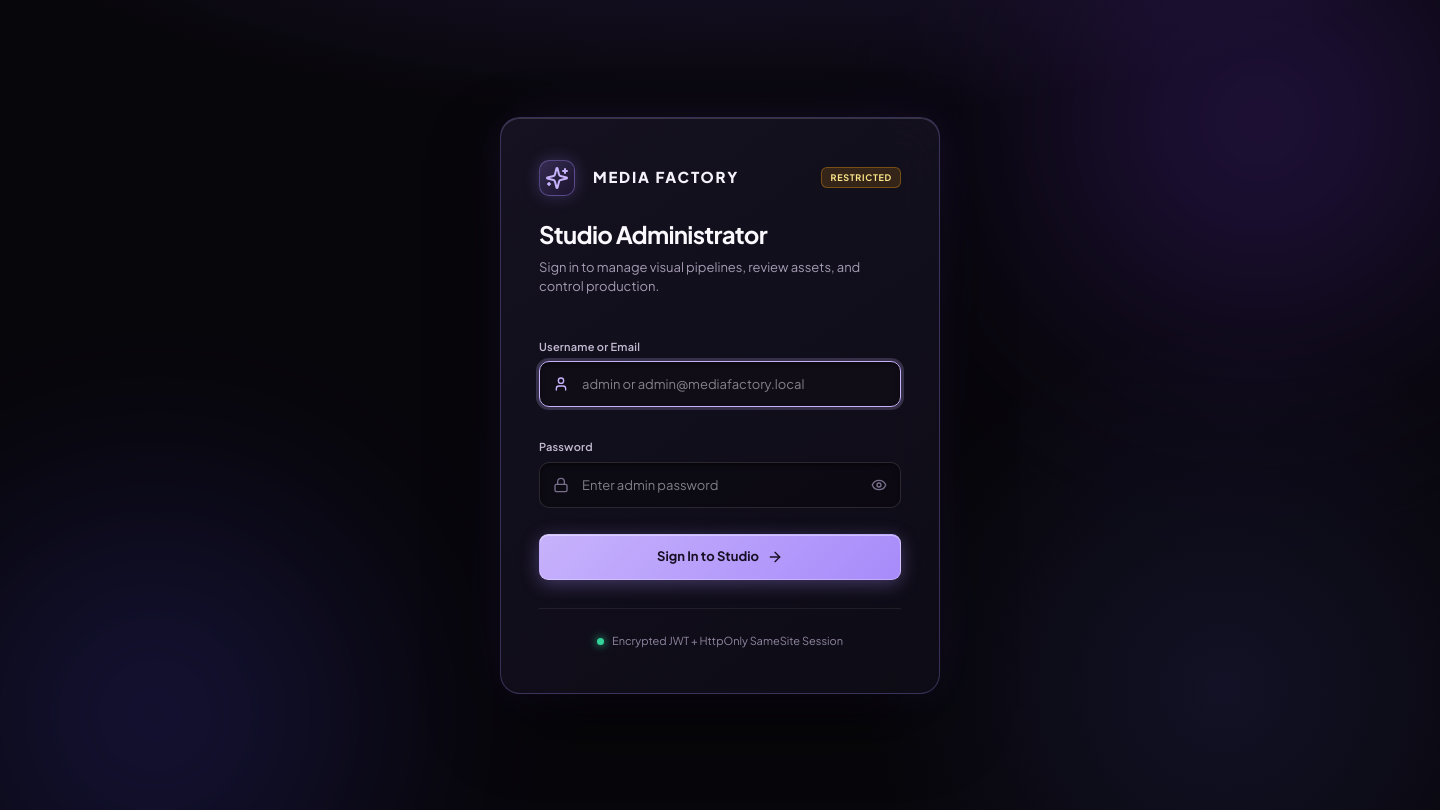
Test: Login Component › displays error message when login fails
Type "admin" into the field labelled "Username or Email" at (720, 384), box [539,361,901,407]
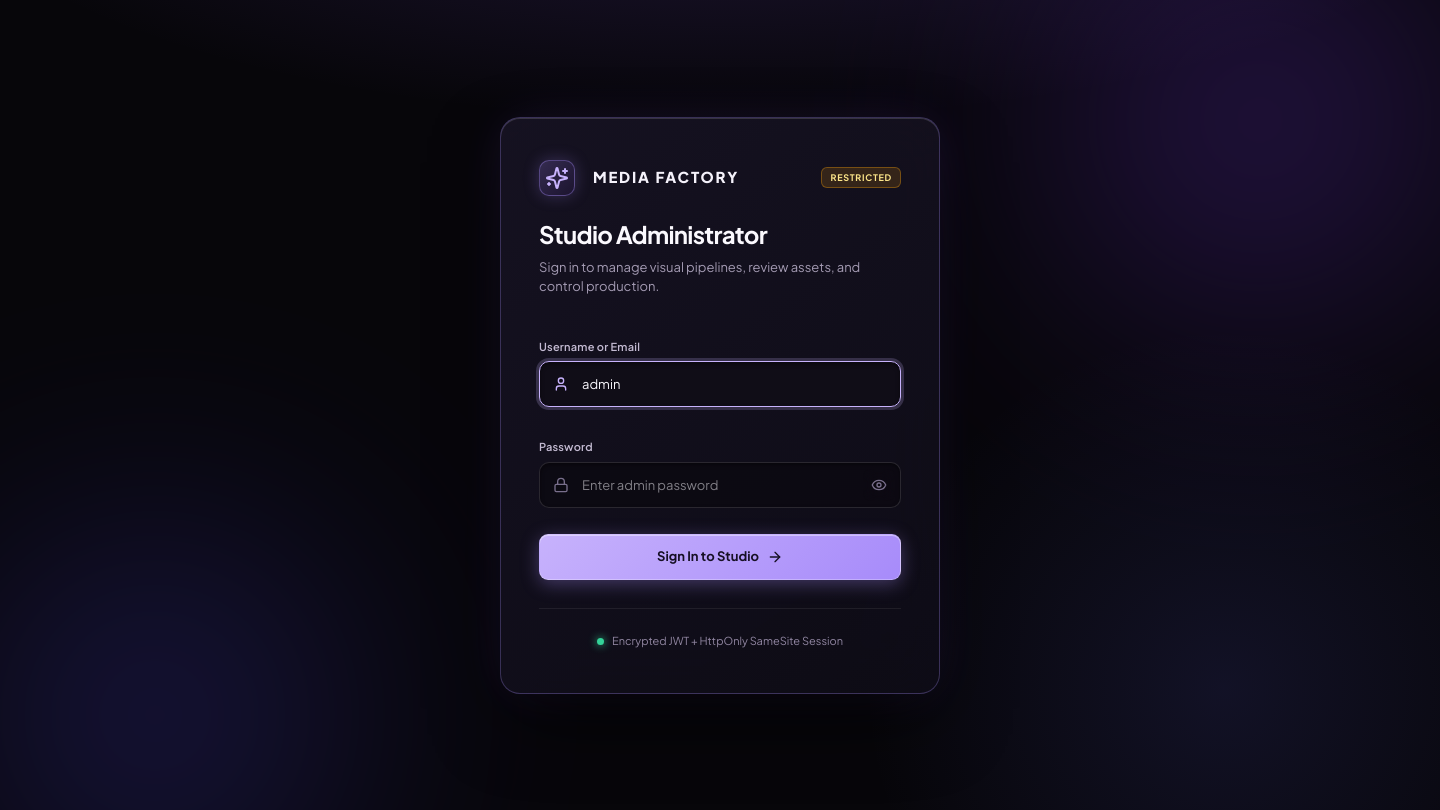
Type "wrong" into the password field labelled "Password" at (720, 484), box [539,462,901,508]
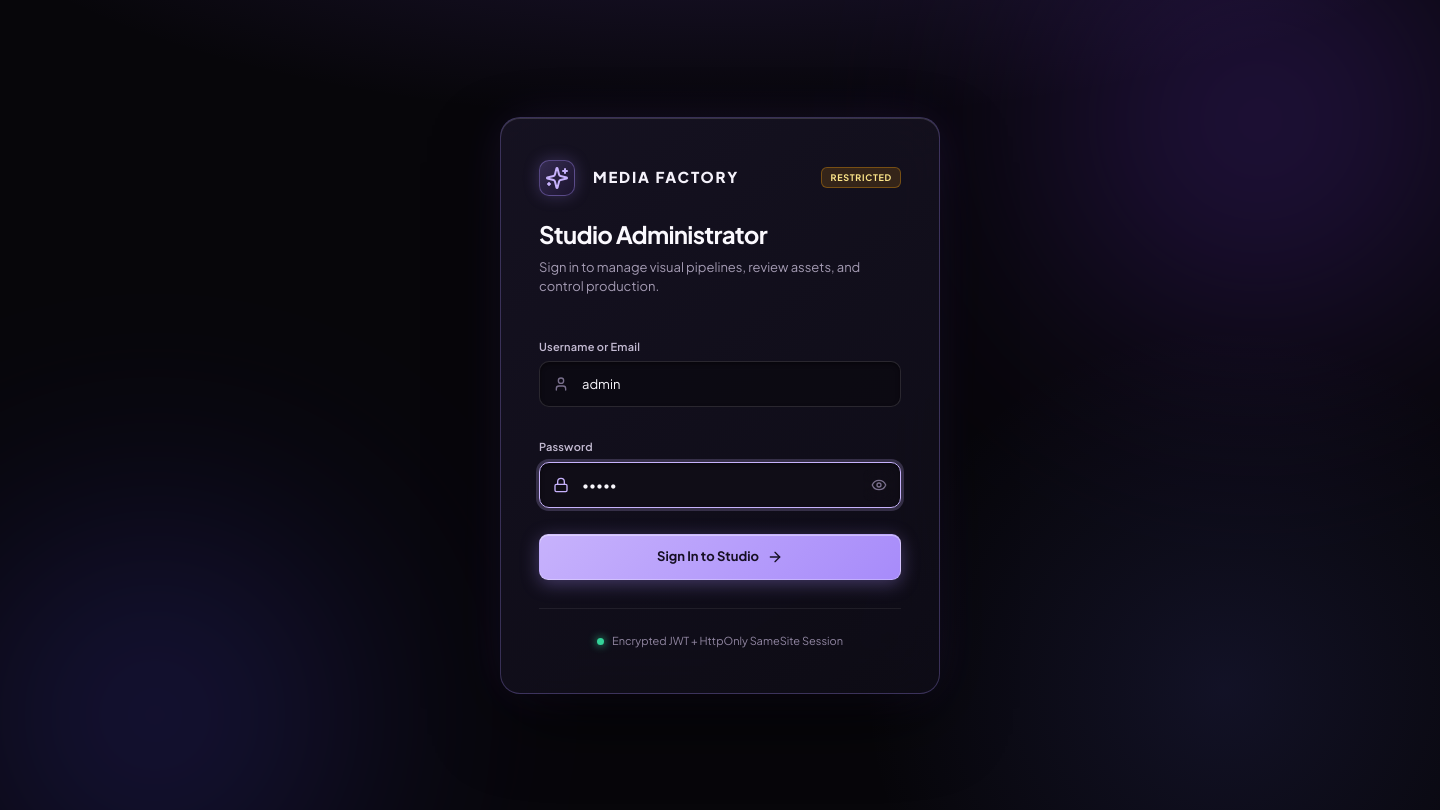
Click the button "Sign In to Studio" at (720, 556), box [539,534,901,580]
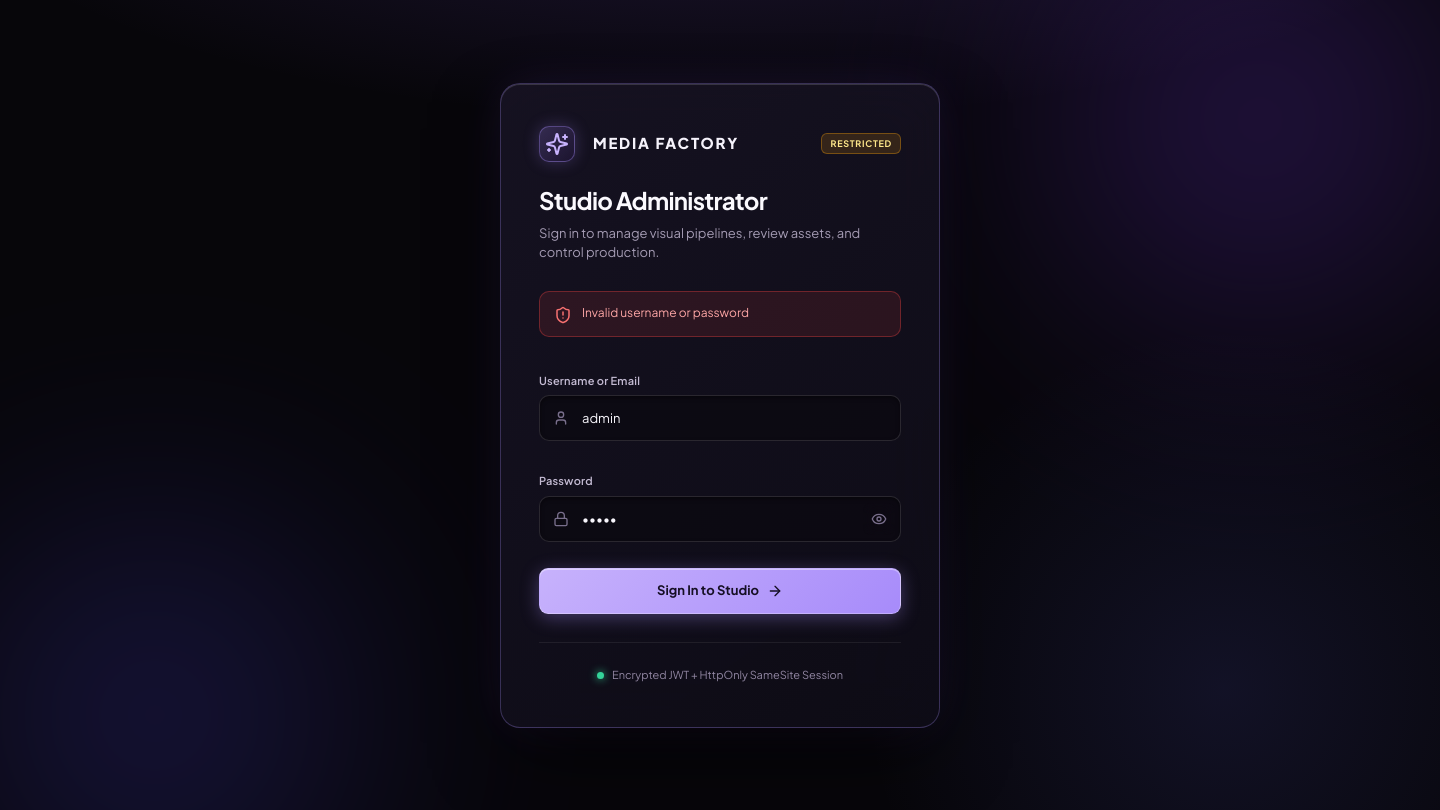
Now the message reads "Invalid username or password", box [582,304,749,320]
